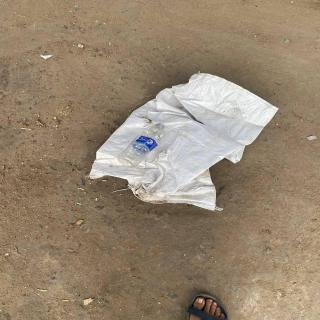Plastic-bottle: (115, 119, 168, 170)
